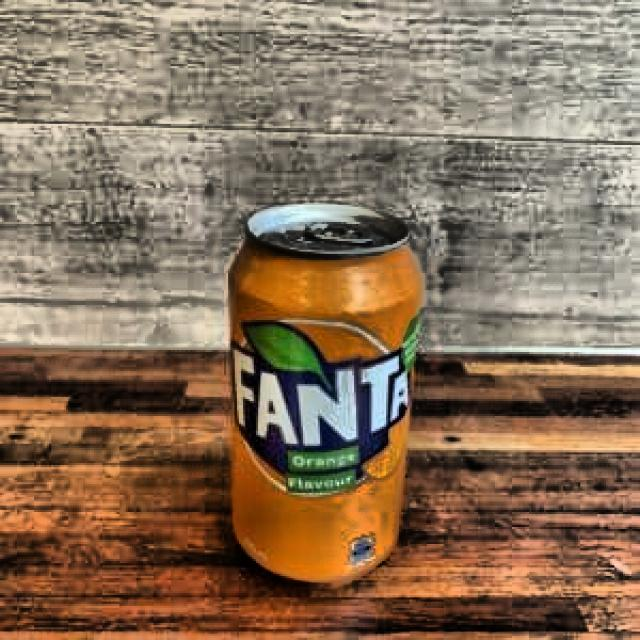Cans: (217, 193, 423, 594)
